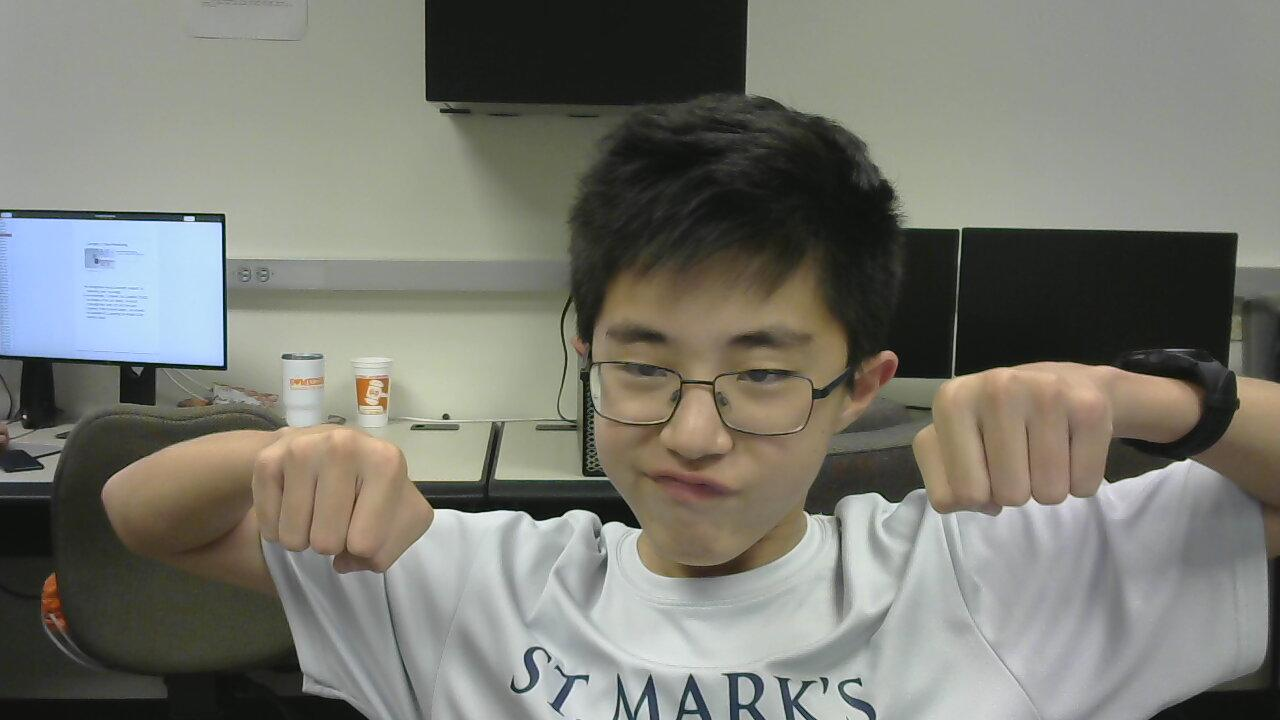fist: (901, 362, 1120, 521), (238, 414, 436, 578)
